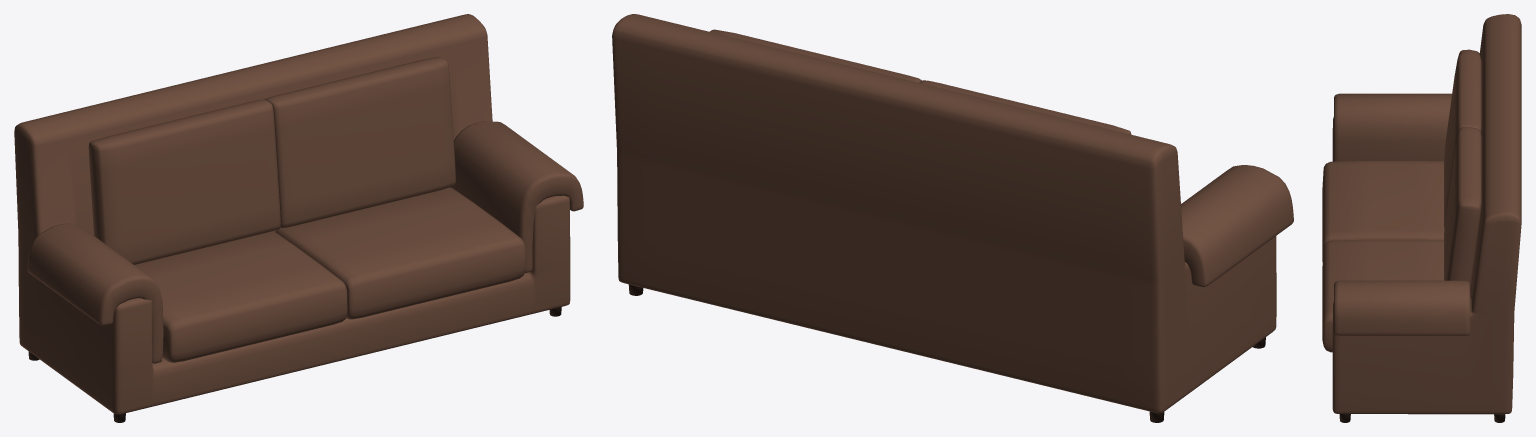
Rendered from Sofa.fbx.
3 renders of one model, left to right at view 1: azimuth 30°, elevation 25°; view 2: azimuth 150°, elevation 25°; view 3: azimuth 270°, elevation 25°, orthographic. The views are drawn at different scales.
Parts seen in each view (by area): view 1: Sofa; view 2: Sofa; view 3: Sofa.
Boxes of the visible parts, bbox=[...] form: Sofa: bbox=[14, 14, 583, 422]; Sofa: bbox=[612, 14, 1293, 422]; Sofa: bbox=[1322, 14, 1521, 422].
Bounding box in the file's own units: 2.55 × 1.17 × 1.
